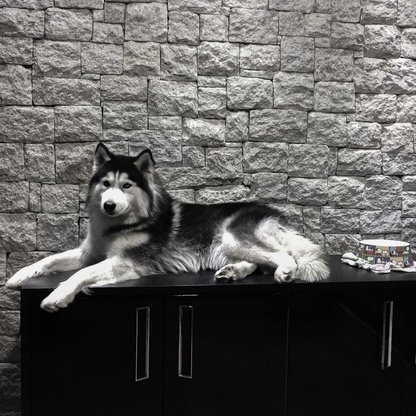husky: (4, 137, 336, 316)
